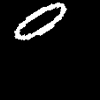chain: (15, 3, 65, 39)
